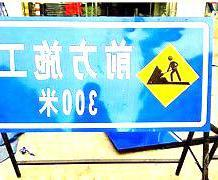sign: (1, 20, 209, 129)
